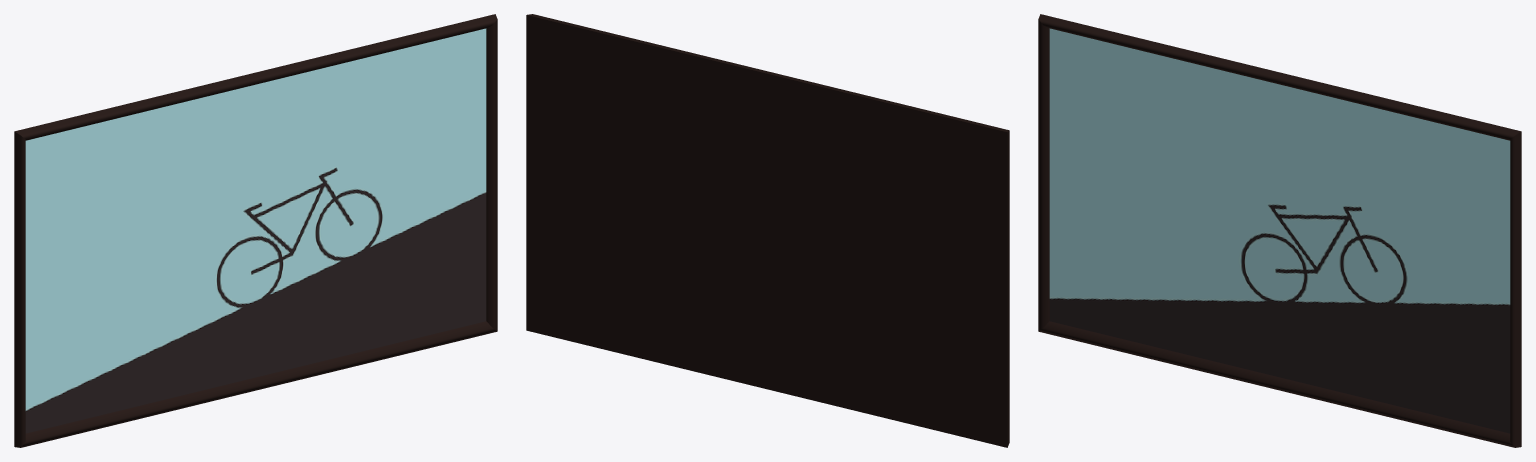
The model's file is picture_012.fbx.
3 views of the same model, side by side, from view 1: azimuth 30°, elevation 25°; view 2: azimuth 150°, elevation 25°; view 3: azimuth 330°, elevation 25° (orthographic).
Visible parts, largest first — view 1: picture_012; view 2: picture_012; view 3: picture_012.
Boxes of the visible parts, x1,y1,x2,y2 form: picture_012: [14, 14, 497, 447]; picture_012: [526, 14, 1009, 447]; picture_012: [1038, 14, 1521, 447].
Size of the model in its own units: 94.8 by 1.42 by 59.43.
